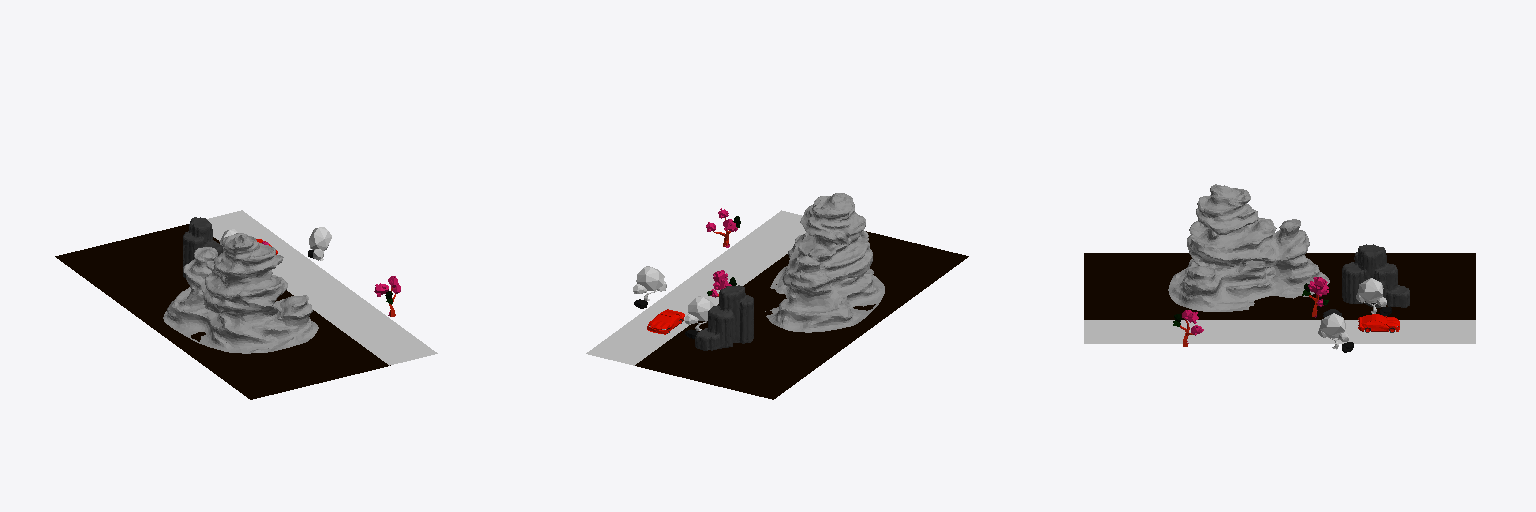
File: sample-tree-with-mountain.obj
3 renders of one model, left to right at view 1: azimuth 30°, elevation 25°; view 2: azimuth 150°, elevation 25°; view 3: azimuth 270°, elevation 25°, orthographic.
Parts seen in each view (by area): view 1: Plane.004_Plane.010, LargeCaveRock, Plane, CavePlatform_4; view 2: Plane.004_Plane.010, LargeCaveRock, Plane, CavePlatform_4, Cube; view 3: Plane.004_Plane.010, LargeCaveRock, Plane, CavePlatform_4, Cube.
Boxes of the visible parts, x1,y1,x2,y2 form: Plane.004_Plane.010: [55, 224, 390, 399]; LargeCaveRock: [163, 233, 318, 353]; Plane: [207, 210, 437, 365]; CavePlatform_4: [183, 217, 222, 277]; Plane.004_Plane.010: [635, 231, 968, 399]; LargeCaveRock: [765, 193, 884, 332]; Plane: [586, 210, 805, 365]; CavePlatform_4: [695, 285, 753, 350]; Cube: [647, 309, 684, 334]; Plane.004_Plane.010: [1084, 253, 1475, 319]; LargeCaveRock: [1168, 184, 1329, 311]; Plane: [1084, 320, 1475, 343]; CavePlatform_4: [1342, 244, 1409, 307]; Cube: [1358, 314, 1399, 332].
Bounding box in the file's own units: 22.29 × 10.36 × 36.61.